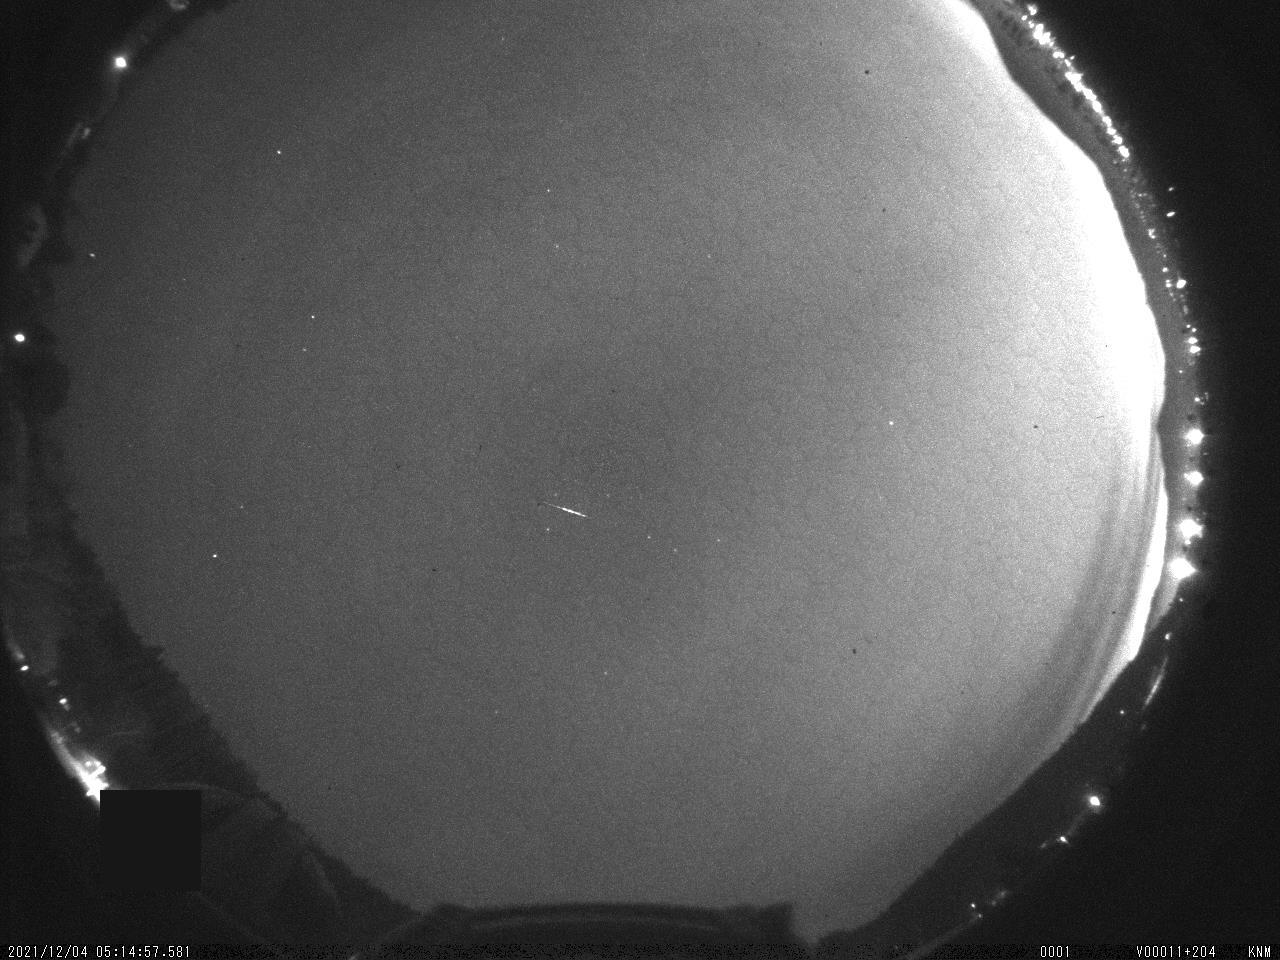meteor: (527, 487, 604, 541)
